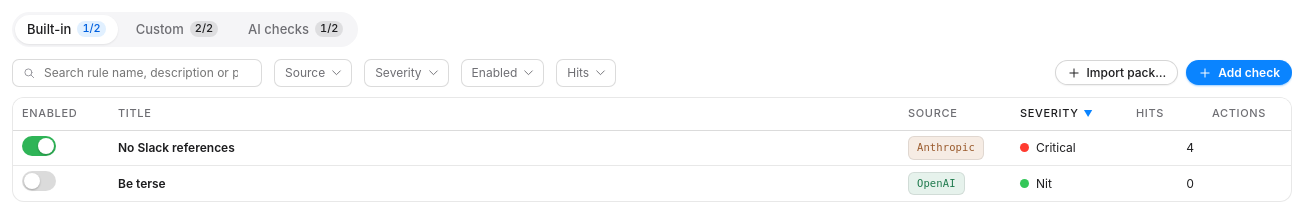
Test case: ChecksLibrary › copies a rule's pattern and confirms it
The width and height of the screenshot is (1304, 219).
Check: the table is shown, box x1=13 y1=98 x2=1291 y2=200
Click the tab "Custom 2/2" at (177, 29), box x1=124 y1=15 x2=230 y2=44
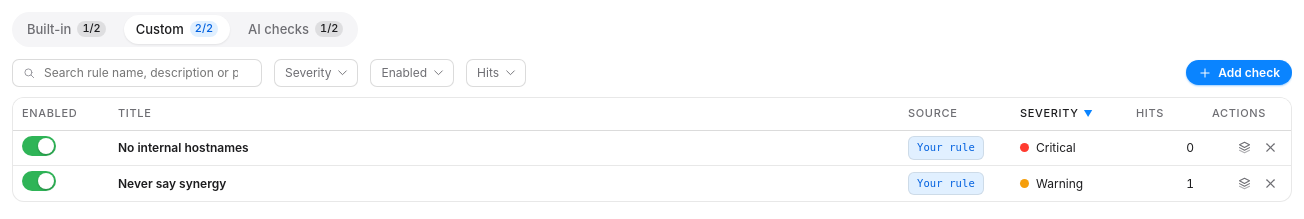
Click the button named "Copy pattern for Never say synergy" at (1244, 183), box x1=1232 y1=171 x2=1256 y2=195
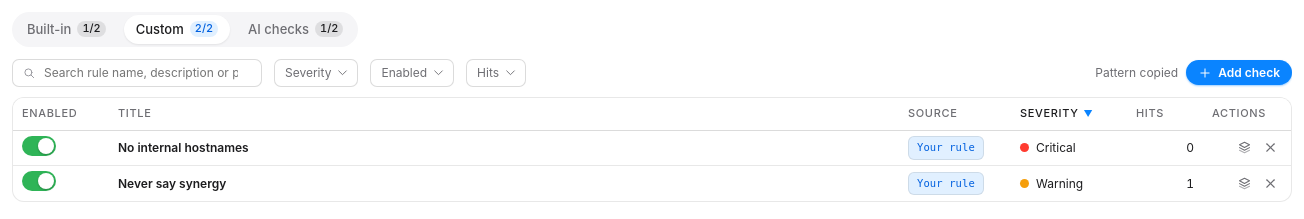
Check: the message reads "Pattern copied", box x1=1095 y1=65 x2=1178 y2=80
